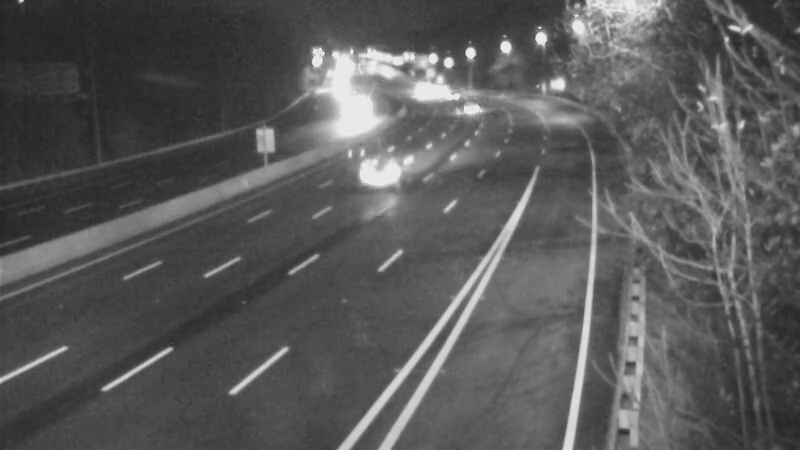vehicle: (348, 136, 428, 216), (394, 67, 444, 117), (429, 73, 479, 123), (449, 83, 499, 133), (330, 91, 380, 141)
